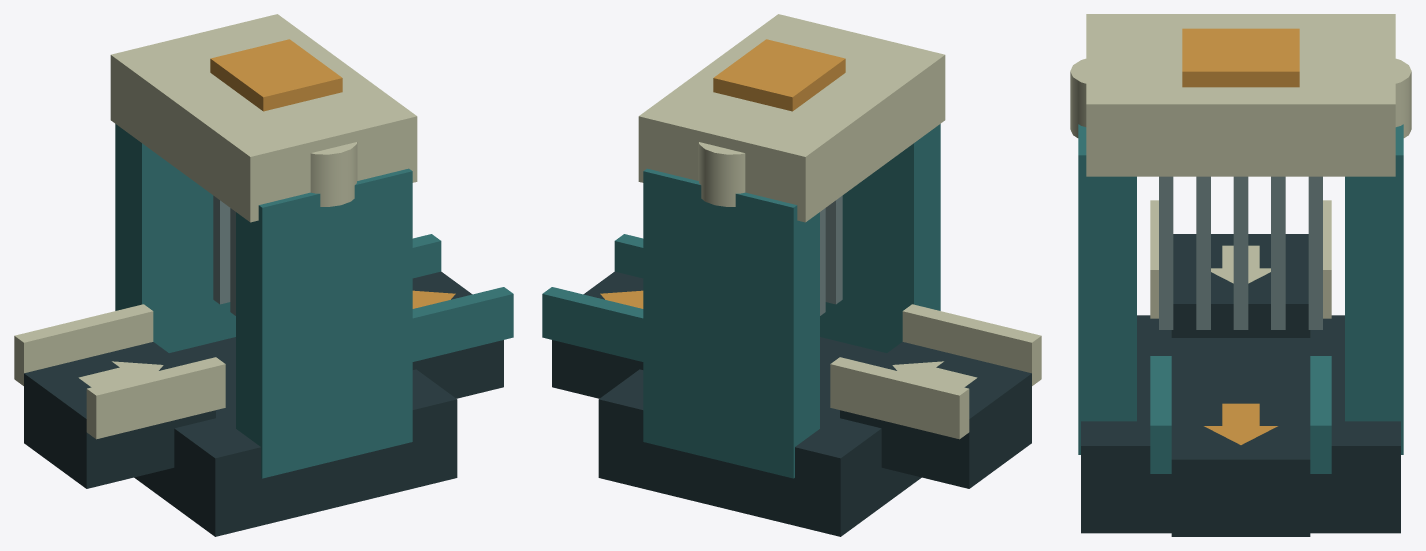
The model's file is admission-gate.glb.
3 views of the same model, side by side, from view 1: azimuth 30°, elevation 25°; view 2: azimuth 150°, elevation 25°; view 3: azimuth 270°, elevation 25° (orthographic). The views are drawn at different scales.
Visible parts, largest first — view 1: Batched static factory; view 2: Batched static factory; view 3: Batched static factory.
Part boxes in pixels (left/top/right/bottom): Batched static factory: left=14, top=14, right=513, bottom=536; Batched static factory: left=542, top=14, right=1041, bottom=536; Batched static factory: left=1070, top=14, right=1411, bottom=536.
Size of the model in its own units: 1 by 0.8775 by 0.64.
